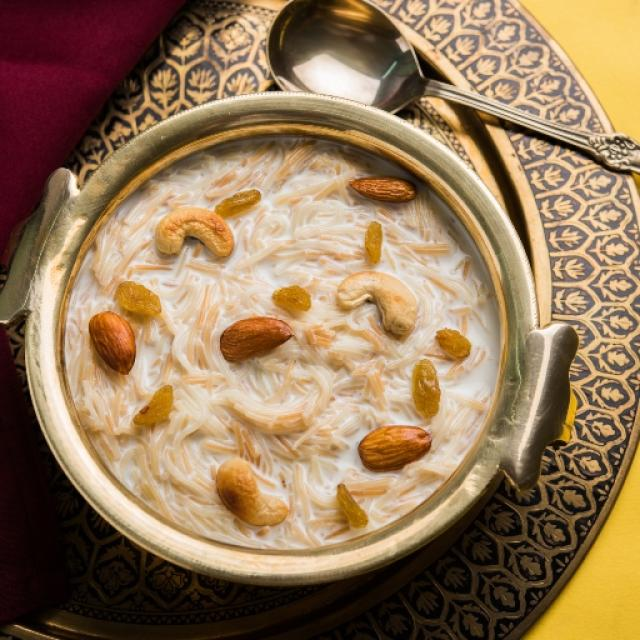shavige payasa: (52, 117, 519, 567)
